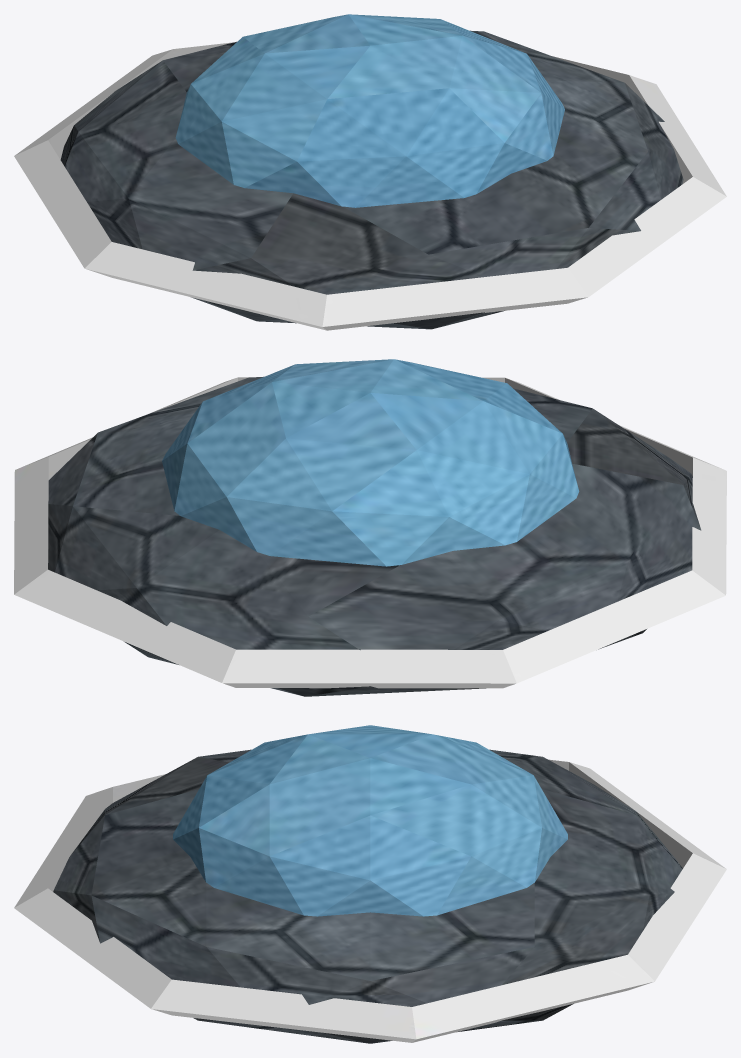
File: ufo.dae
3 renders of one model, top to bottom at view 1: azimuth 30°, elevation 25°; view 2: azimuth 150°, elevation 25°; view 3: azimuth 270°, elevation 25°, orthographic. The views are drawn at different scales.
Parts seen in each view (by area): view 1: Icosphere; view 2: Icosphere; view 3: Icosphere.
Boxes of the visible parts, <box> form: Icosphere: <box>14,14,726,330</box>; Icosphere: <box>14,359,726,696</box>; Icosphere: <box>14,725,726,1043</box>.
Size of the model in its own units: 0.3217 by 0.3217 by 0.1002.
Materials: 1 (1 with a texture image).
